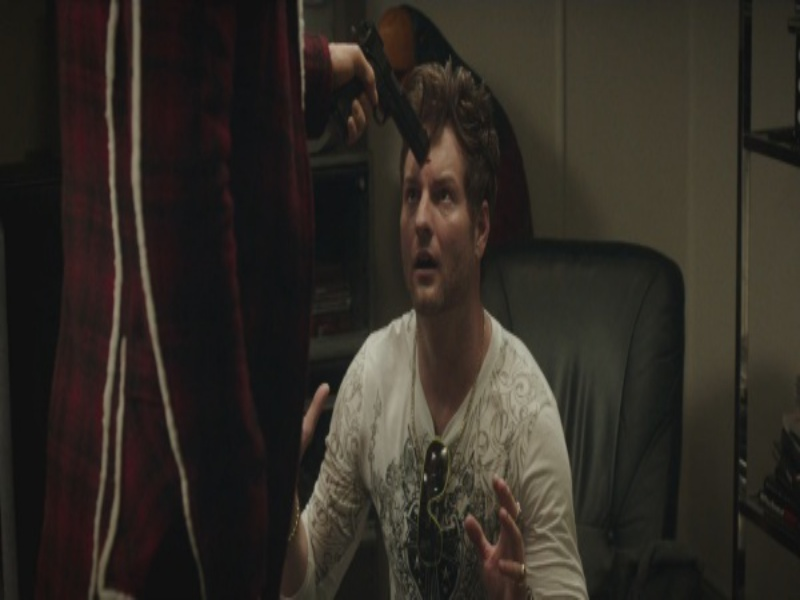person: (32, 4, 375, 590), (294, 61, 587, 597)
weapon: (329, 21, 425, 160)
